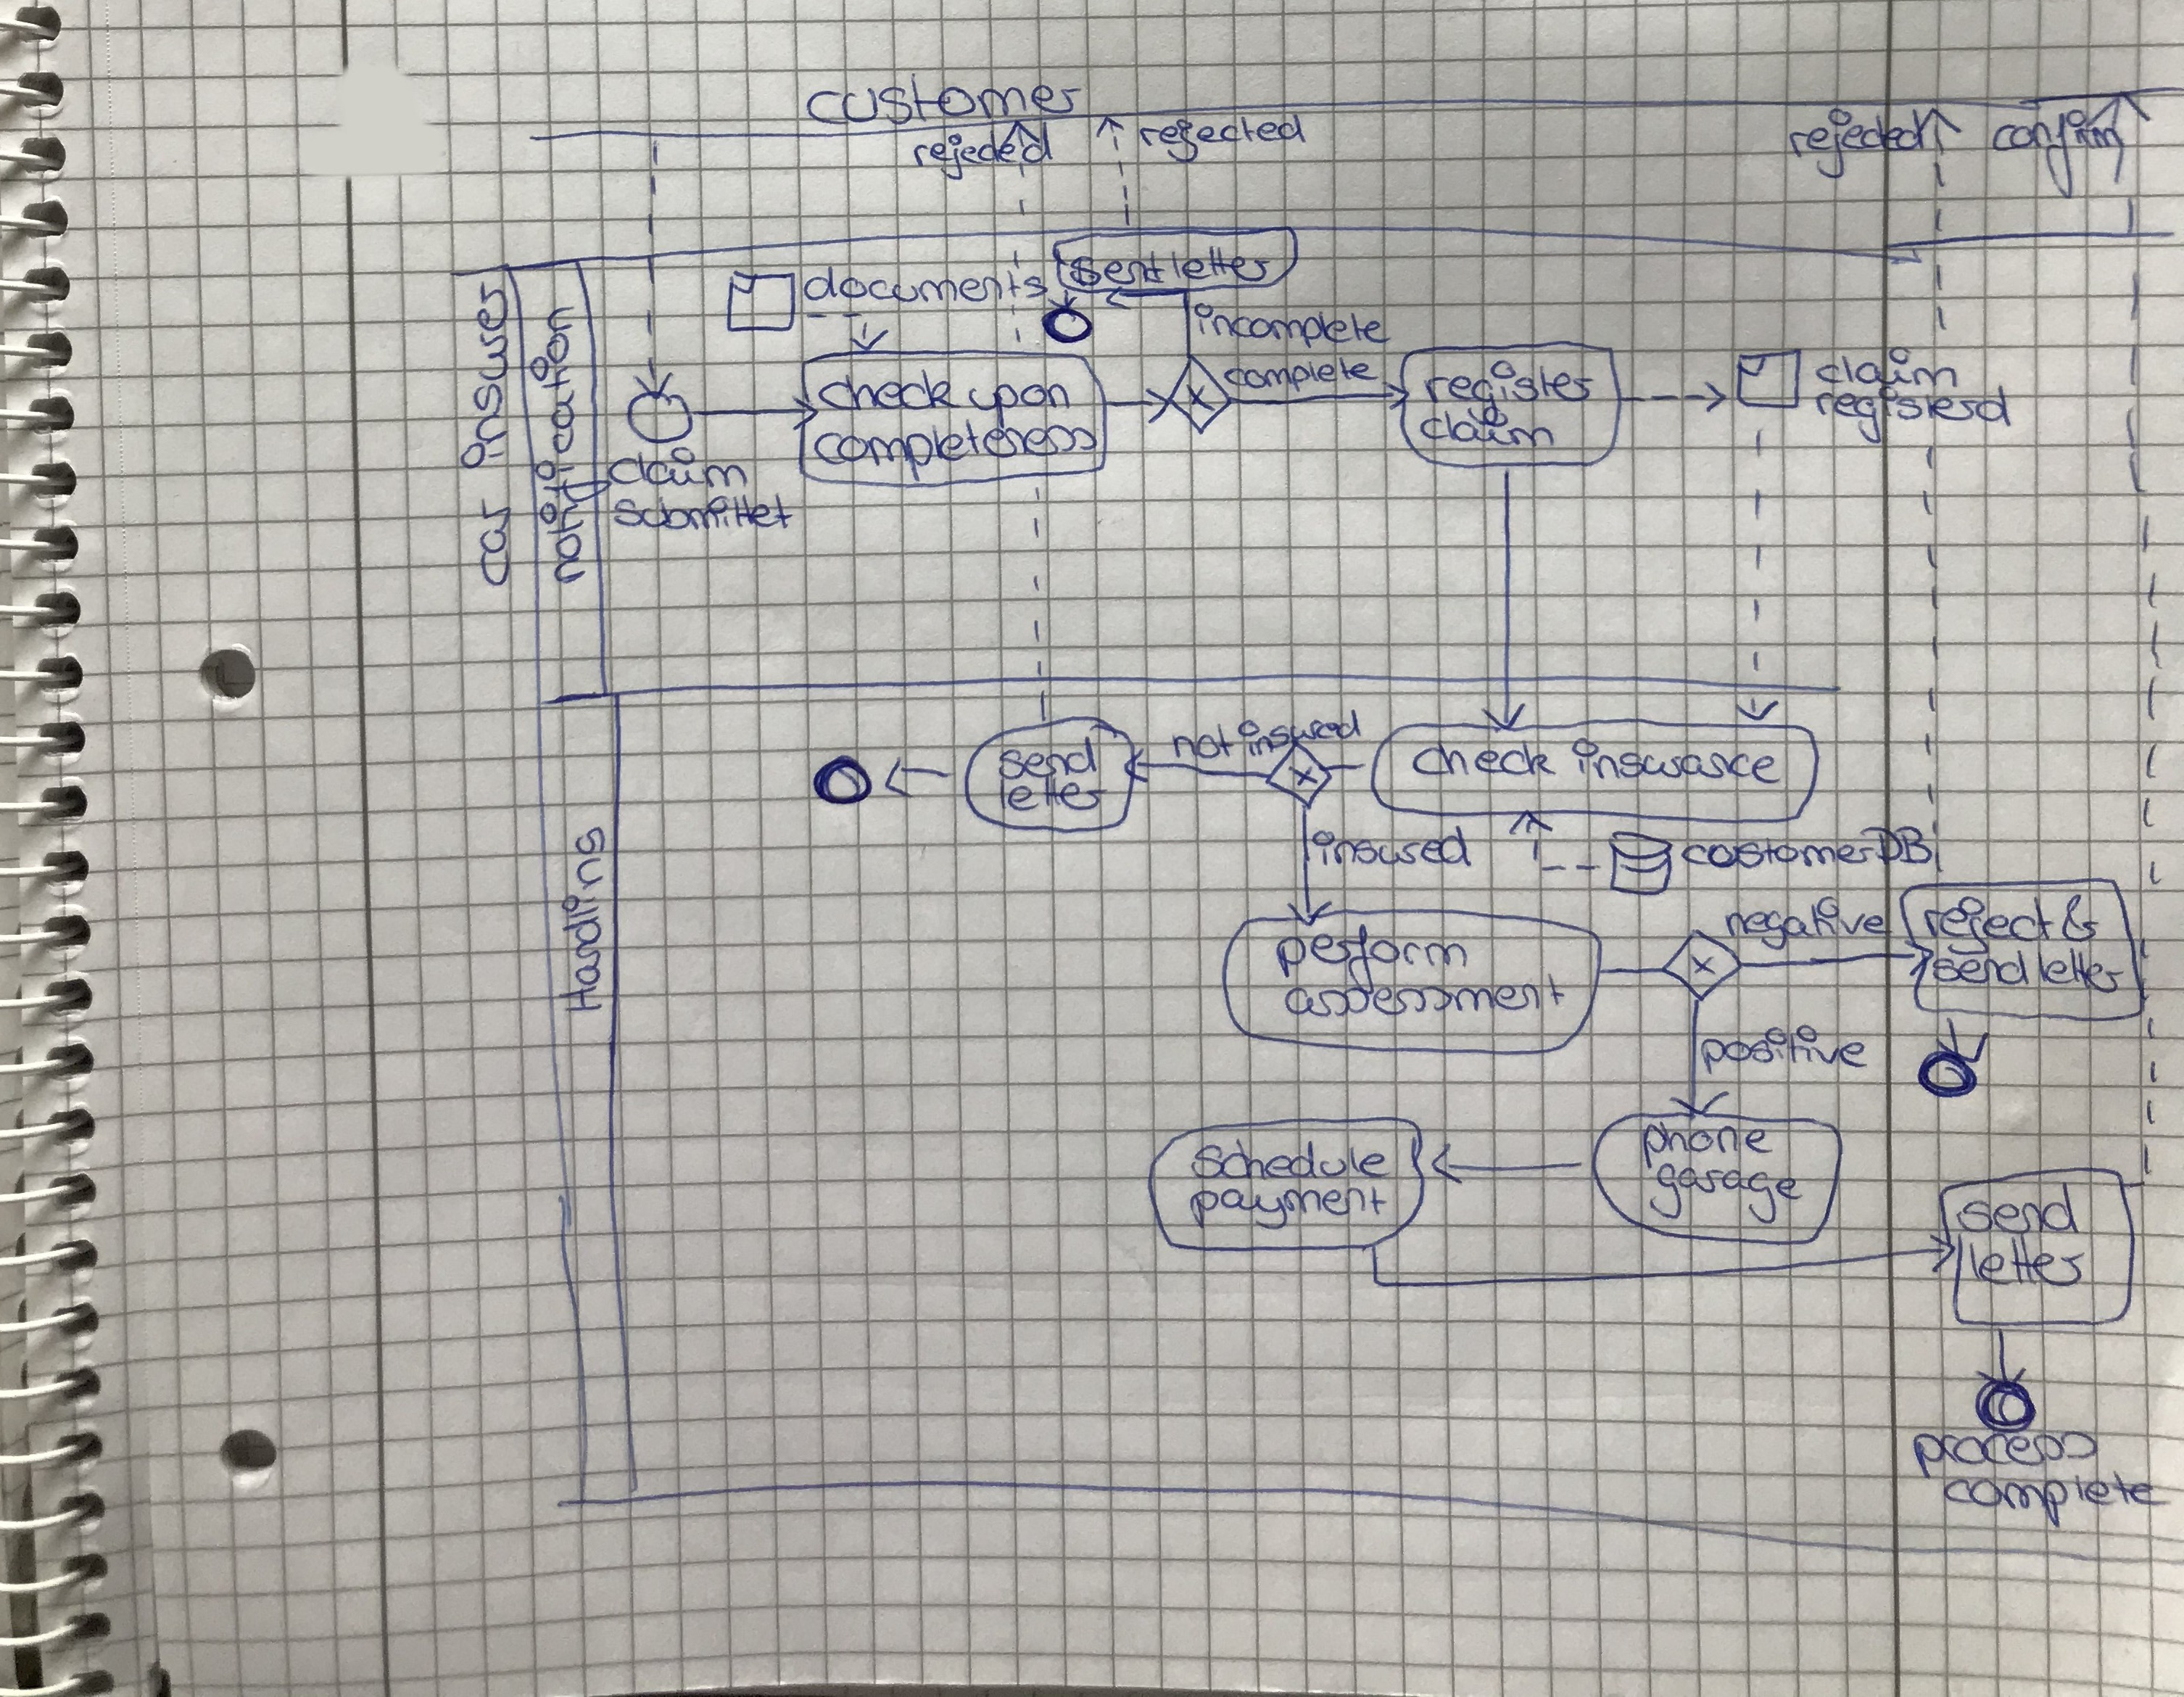&: (2056, 888, 2106, 947)
DB: (1854, 821, 1939, 871)
Handling: (553, 821, 613, 1018)
assessment: (1276, 966, 1572, 1025)
car: (466, 493, 523, 594)
check: (812, 365, 970, 418), (1406, 734, 1564, 784)
claim: (1808, 340, 1964, 394), (603, 442, 755, 495), (1413, 404, 1562, 456)
complete: (1936, 1466, 2180, 1537), (1216, 351, 1386, 399)
completeness: (807, 413, 1104, 488)
confirm: (1985, 105, 2133, 206)
customer: (798, 64, 1090, 133), (1673, 830, 1881, 880)
documents: (798, 257, 1055, 312)
garage: (1643, 1156, 1812, 1231)
incomplete: (1186, 298, 1399, 356)
insurance: (1565, 732, 1790, 791)
insured: (1306, 817, 1478, 872), (1232, 704, 1367, 761)
insurer: (452, 271, 516, 473)
letter: (1962, 1225, 2094, 1294), (993, 770, 1115, 817), (2030, 943, 2131, 998), (1166, 241, 1276, 287)
negative: (1718, 892, 1900, 958)
not: (1168, 718, 1241, 764)
notification: (523, 298, 619, 589)
payment: (1182, 1177, 1393, 1238)
perform: (1269, 917, 1477, 1000)
phone: (1634, 1115, 1780, 1174)
positive: (1695, 1020, 1876, 1082)
process: (1906, 1422, 2104, 1488)
register: (1416, 355, 1603, 433)
registerd: (1808, 378, 2017, 449)
reject: (1916, 888, 2060, 961)
rejected: (1783, 103, 1932, 186), (904, 115, 1060, 188), (1135, 108, 1312, 168)
schedule: (1186, 1133, 1397, 1186)
send: (1950, 1176, 2088, 1241), (991, 729, 1104, 786), (1927, 943, 2037, 991)
sent: (1064, 243, 1172, 293)
submittet: (606, 488, 799, 537)
upon: (964, 374, 1078, 436)
